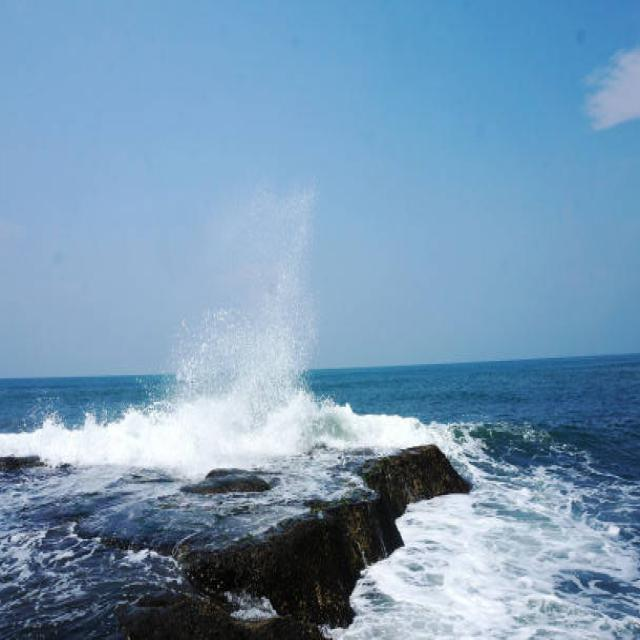reef: (106, 389, 496, 640)
